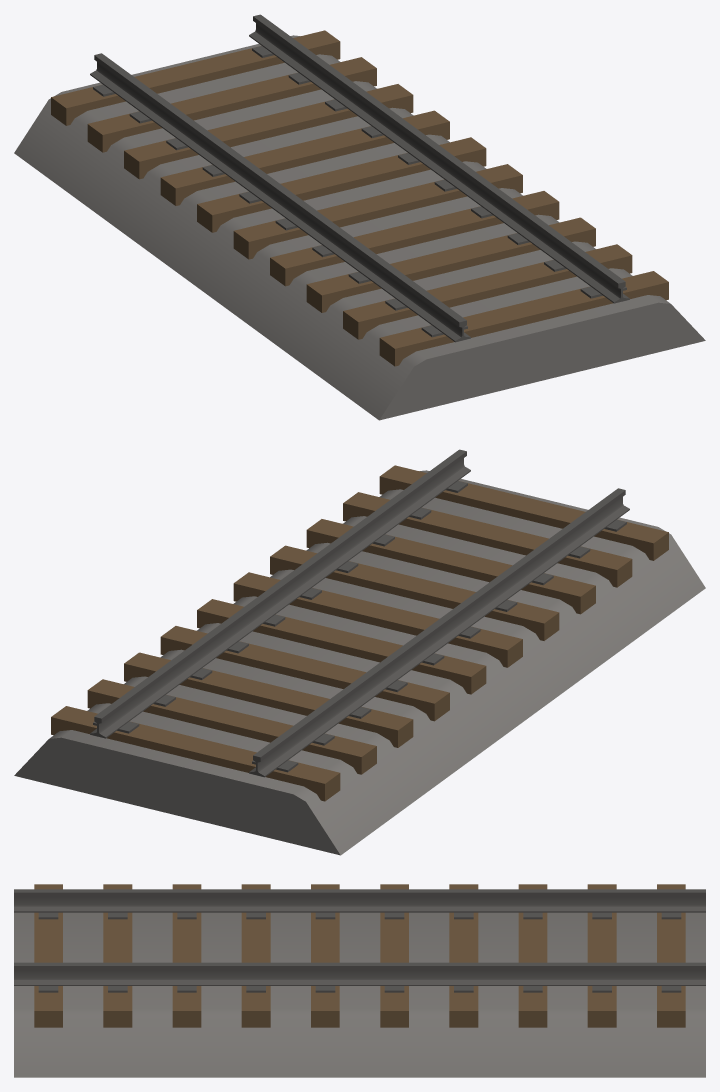
Rendered from Scenery_RailTrack.fbx.
The picture shows the model from 3 angles, top to bottom: view 1: azimuth 30°, elevation 25°; view 2: azimuth 150°, elevation 25°; view 3: azimuth 270°, elevation 25°; orthographic projection. The views are drawn at different scales.
Visible parts, largest first — view 1: Scenery_RailTrack_Mesh; view 2: Scenery_RailTrack_Mesh; view 3: Scenery_RailTrack_Mesh.
Part boxes in pixels (x1,y1,x2,y2): Scenery_RailTrack_Mesh: (14,14,705,420); Scenery_RailTrack_Mesh: (14,449,705,855); Scenery_RailTrack_Mesh: (14,884,705,1077).
Size of the model in its own units: 3.1 by 0.712 by 6.
